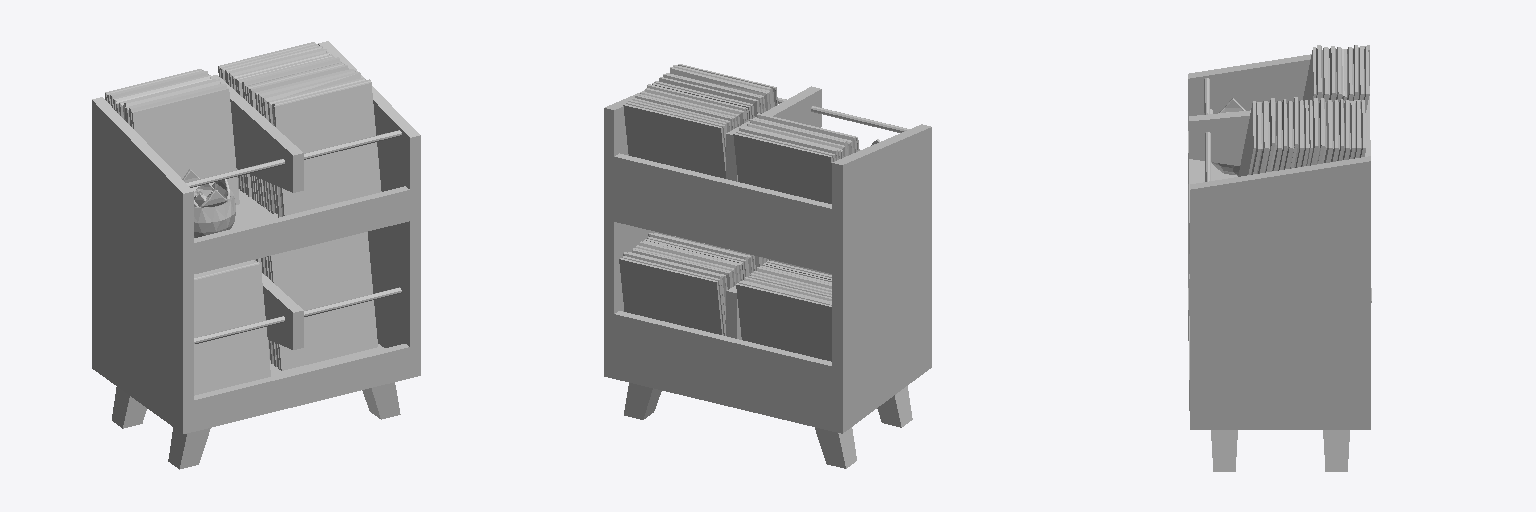
The model's file is record_table.obj.
The picture shows the model from 3 angles: view 1: azimuth 30°, elevation 25°; view 2: azimuth 150°, elevation 25°; view 3: azimuth 270°, elevation 25°; orthographic projection.
Visible parts, largest first — view 1: table_low, record_3_low, record_7_low, record_1_low, record_5_low, table_part_low, record_2_low, table_shoe_low, crossbar_low, potter_low, crossbar_2_low; view 2: table_low, record_6_low, record_2_low, record_1_low, record_4_low, record_3_low, table_shoe_low, table_part_low, record_7_low, crossbar_low; view 3: table_low, record_3_low, record_2_low, record_1_low, table_part_low, table_shoe_low.
Part boxes in pixels (left/top/right/bottom): table_low: left=92, top=41, right=420, bottom=433; record_3_low: left=247, top=63, right=381, bottom=217; record_7_low: left=255, top=232, right=377, bottom=370; record_1_low: left=105, top=69, right=239, bottom=204; record_5_low: left=194, top=260, right=270, bottom=395; table_part_low: left=211, top=75, right=303, bottom=349; record_2_low: left=218, top=42, right=341, bottom=201; table_shoe_low: left=112, top=382, right=400, bottom=469; crossbar_low: left=186, top=130, right=401, bottom=187; potter_low: left=194, top=183, right=235, bottom=237; crossbar_2_low: left=194, top=287, right=401, bottom=343; table_low: left=604, top=90, right=931, bottom=433; record_6_low: left=619, top=240, right=742, bottom=335; record_2_low: left=623, top=84, right=749, bottom=178; record_1_low: left=733, top=113, right=859, bottom=203; record_4_low: left=736, top=264, right=831, bottom=361; record_3_low: left=652, top=64, right=777, bottom=118; table_shoe_low: left=624, top=383, right=912, bottom=468; table_part_low: left=726, top=86, right=821, bottom=339; record_7_low: left=645, top=232, right=768, bottom=280; crossbar_low: left=778, top=98, right=908, bottom=132; table_low: left=1188, top=45, right=1370, bottom=429; record_3_low: left=1238, top=97, right=1309, bottom=176; record_2_low: left=1306, top=98, right=1366, bottom=165; record_1_low: left=1303, top=45, right=1369, bottom=112; table_part_low: left=1189, top=100, right=1360, bottom=315; table_shoe_low: left=1211, top=430, right=1349, bottom=471.
Bounding box in the file's own units: 1.77 × 2.28 × 1.18.